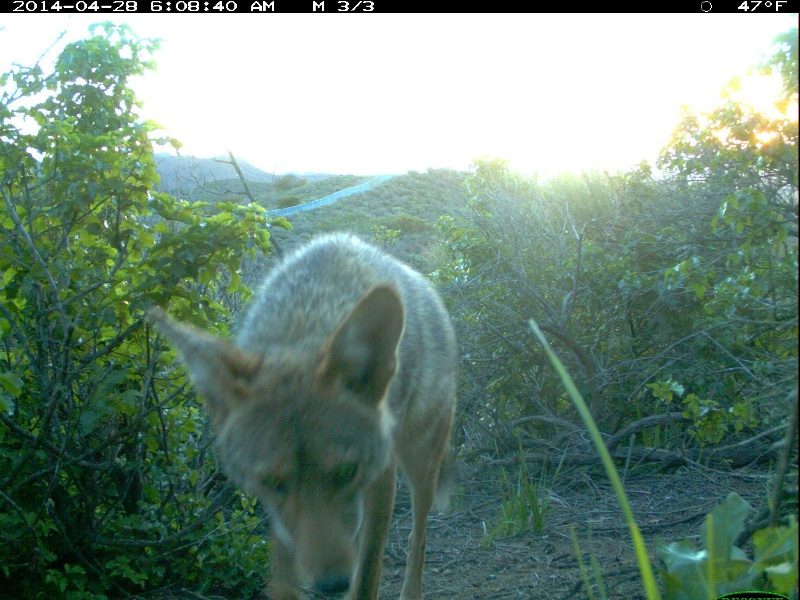coyote: (144, 220, 470, 600)
